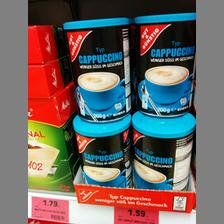Kaffee: (60, 16, 132, 120), (130, 11, 194, 116), (130, 109, 194, 191), (72, 112, 130, 186)
